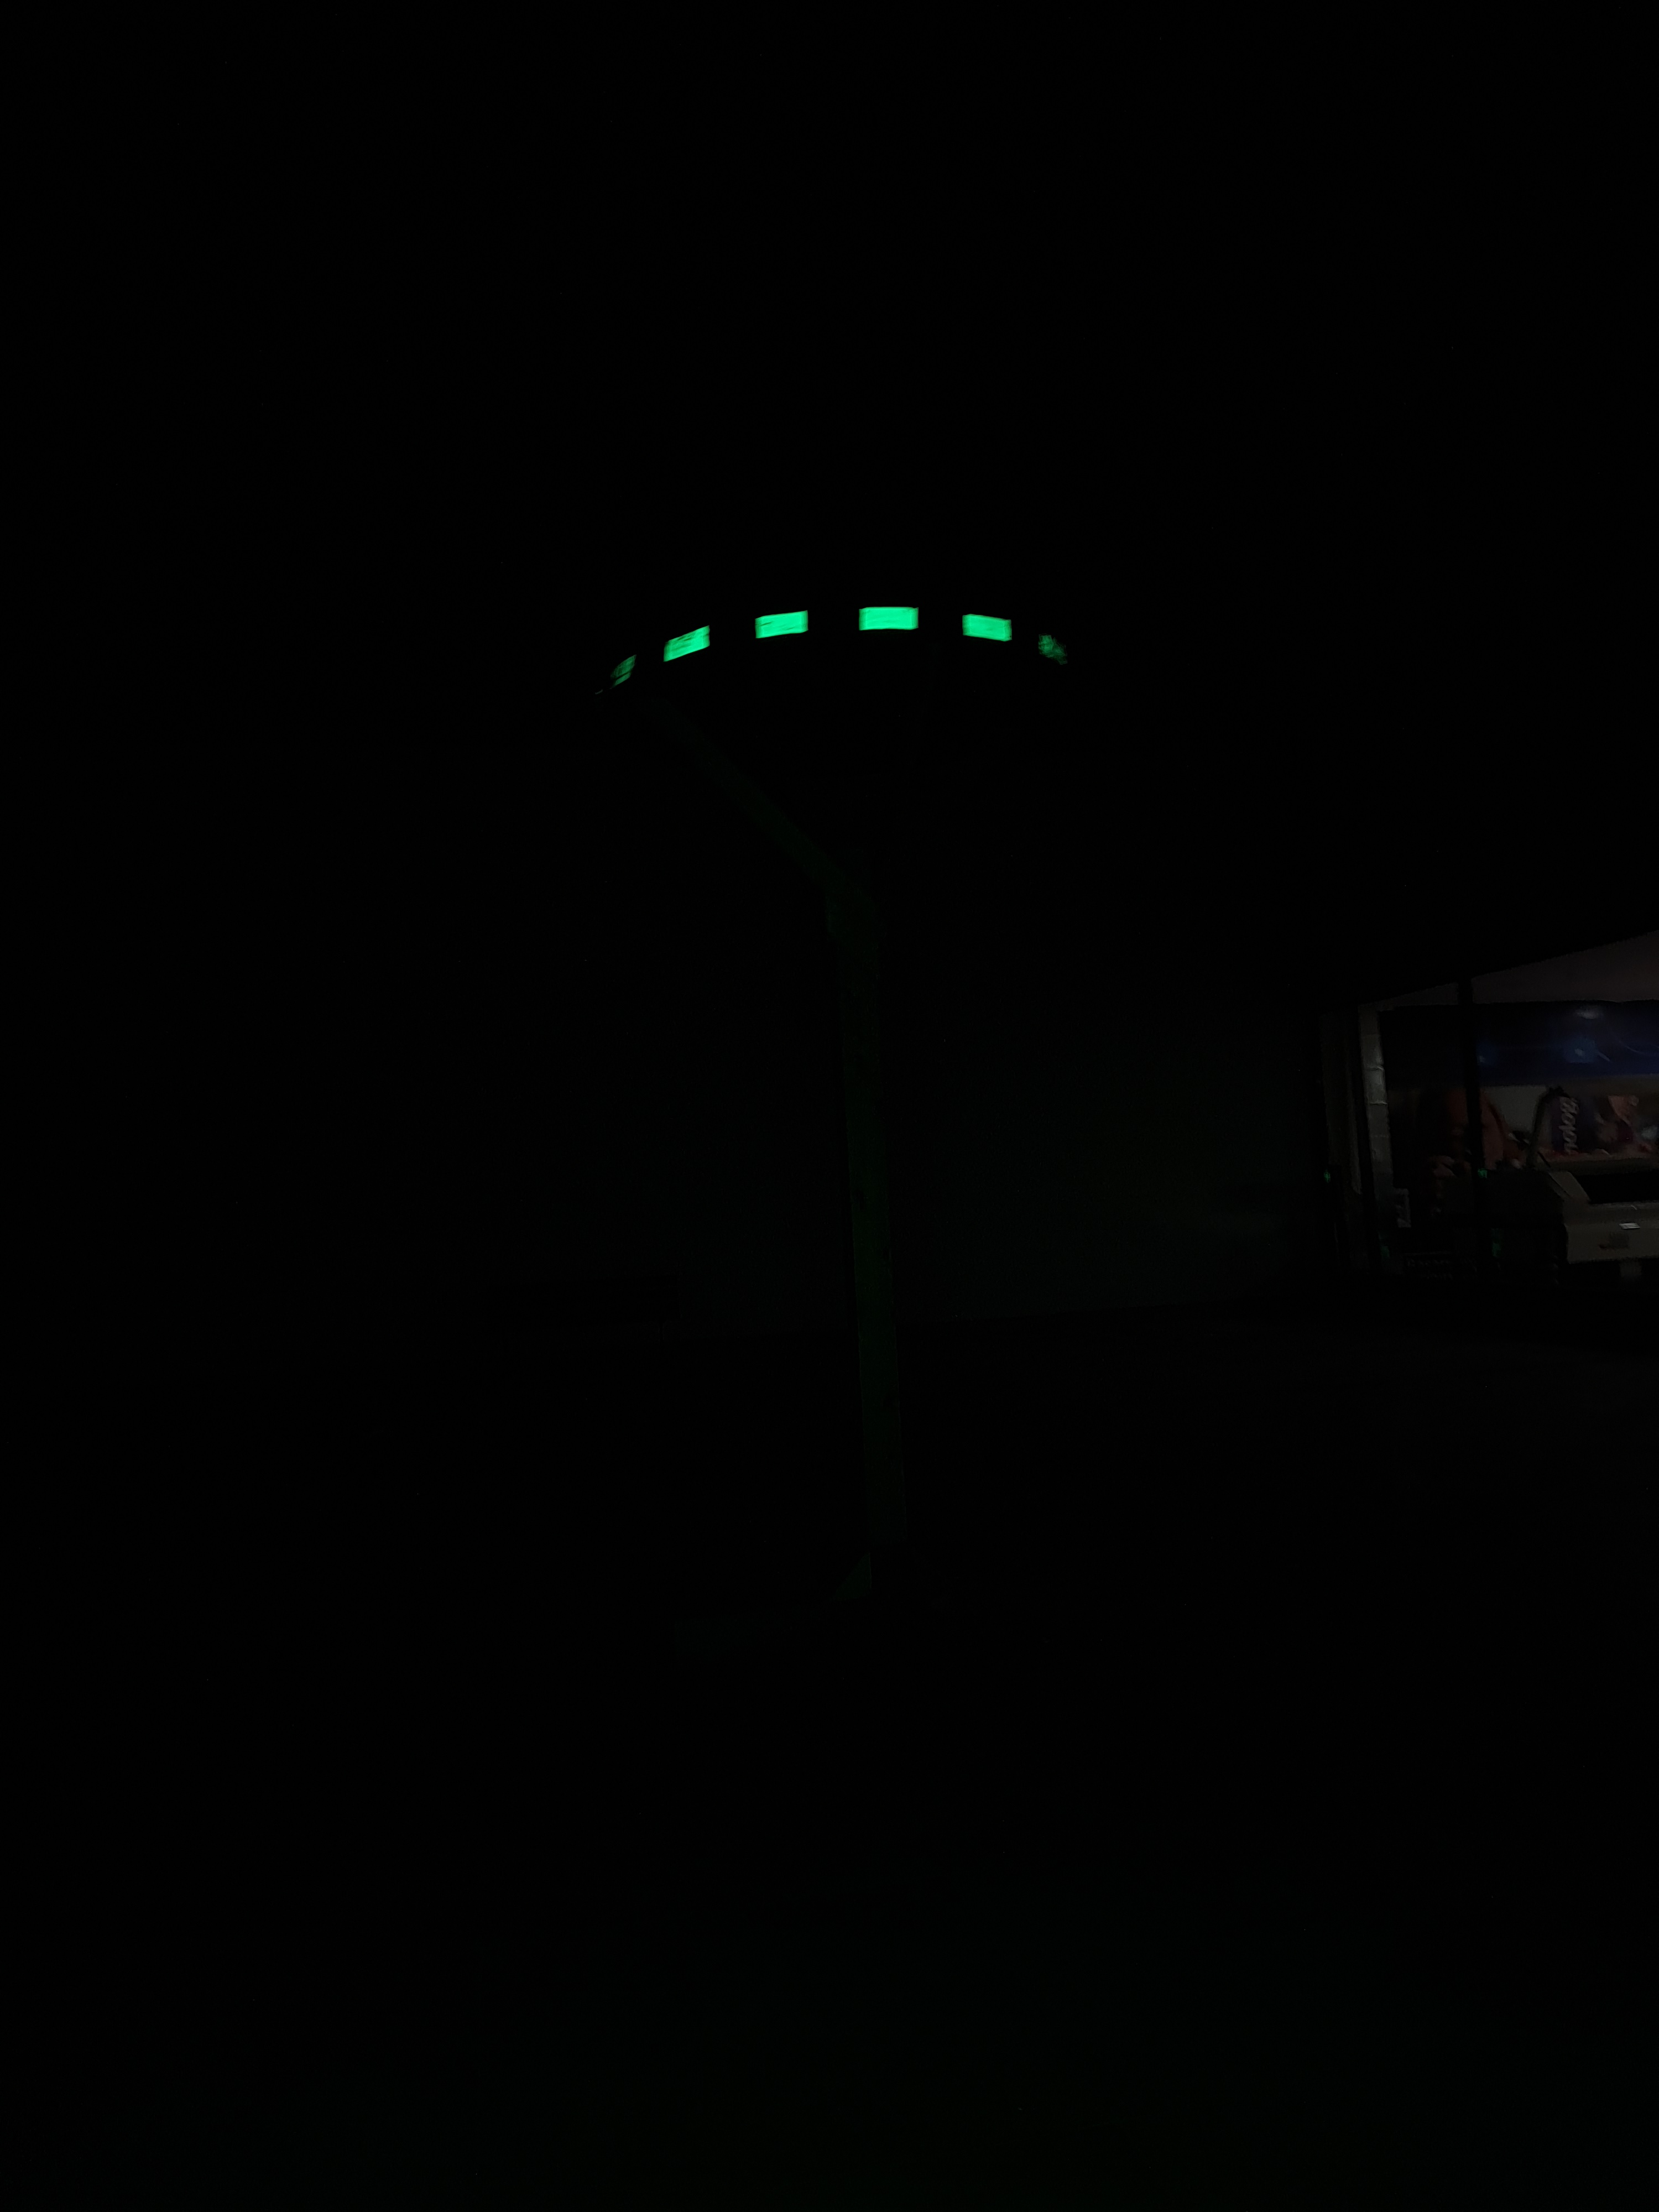hoop: (573, 601, 1103, 695)
